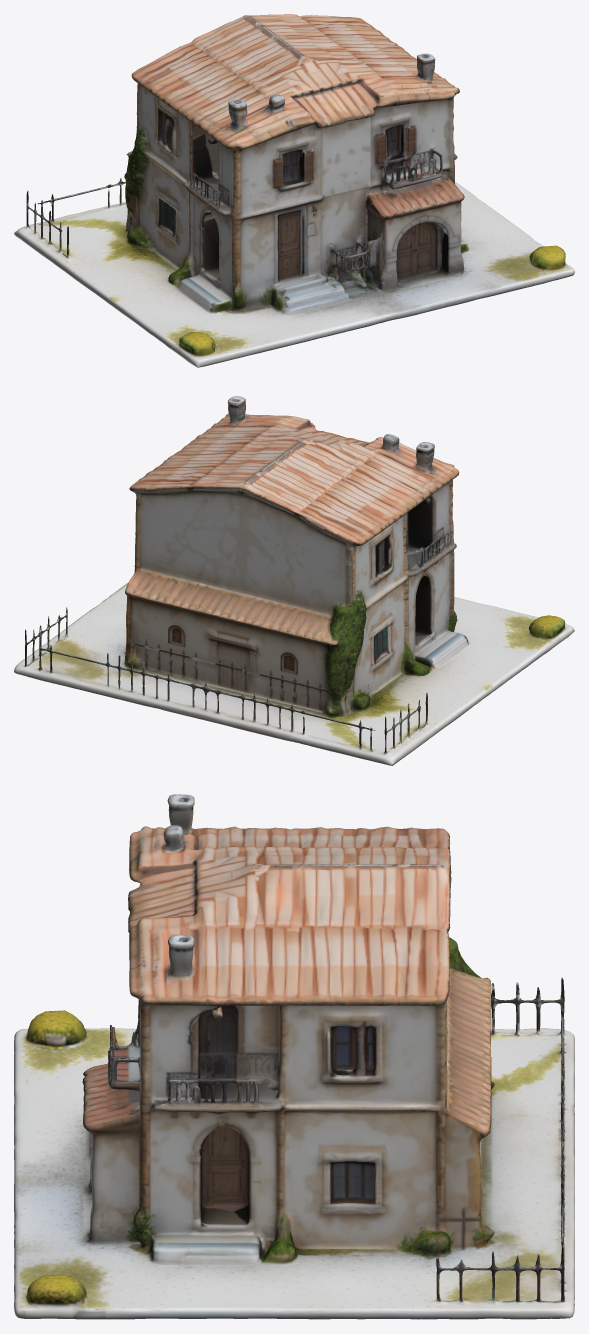
The model's file is stone_building_lev2.glb.
The picture shows the model from 3 angles, top to bottom: view 1: azimuth 30°, elevation 25°; view 2: azimuth 150°, elevation 25°; view 3: azimuth 270°, elevation 25°; orthographic projection. The views are drawn at different scales.
Visible parts, largest first — view 1: model_0.005; view 2: model_0.005; view 3: model_0.005.
Part boxes in pixels (x1,y1,x2,y2): model_0.005: [14, 14, 574, 367]; model_0.005: [14, 396, 574, 765]; model_0.005: [14, 794, 574, 1319].
Size of the model in its own units: 81.83 by 42.28 by 68.43.
Materials: 1 (1 with a texture image).
